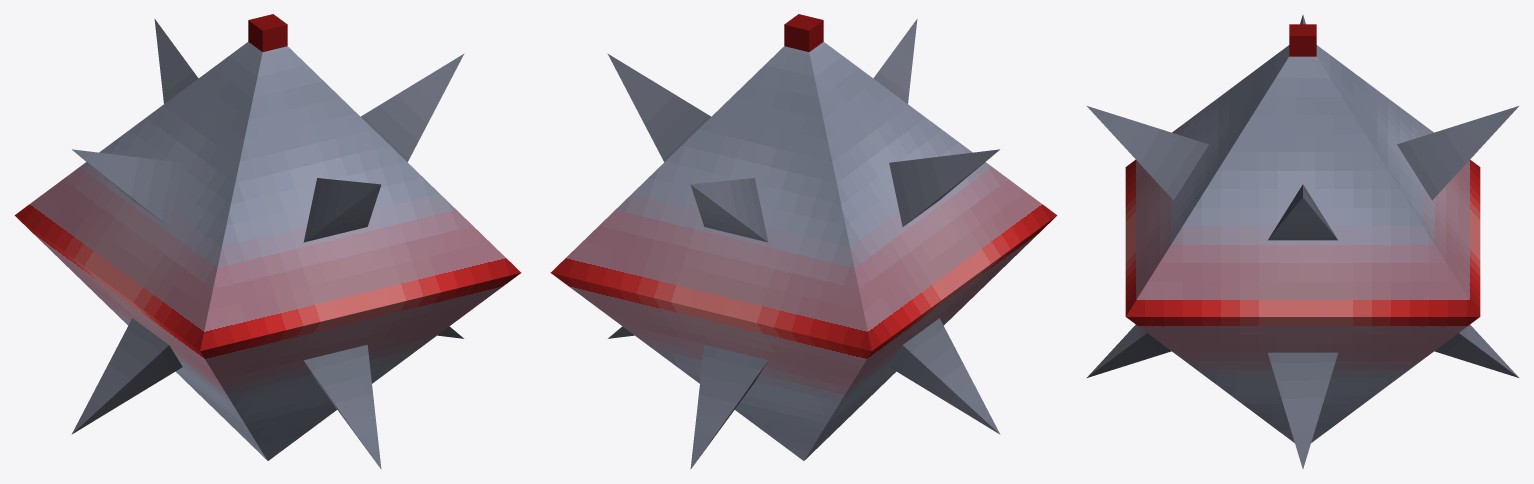
Rendered from mine.glb.
3 renders of one model, left to right at view 1: azimuth 30°, elevation 25°; view 2: azimuth 150°, elevation 25°; view 3: azimuth 270°, elevation 25°, orthographic. The views are drawn at different scales.
Parts seen in each view (by area): view 1: mine, light; view 2: mine, light; view 3: mine, light.
Boxes of the visible parts, left/top/right/bottom form: mine: left=14, top=19, right=521, bottom=469; light: left=248, top=14, right=287, bottom=51; mine: left=550, top=19, right=1057, bottom=469; light: left=784, top=14, right=823, bottom=51; mine: left=1087, top=15, right=1518, bottom=468; light: left=1289, top=24, right=1316, bottom=56.
Bounding box in the file's own units: 0.75 × 0.8 × 0.75.
Materials: 1 (1 with a texture image).
